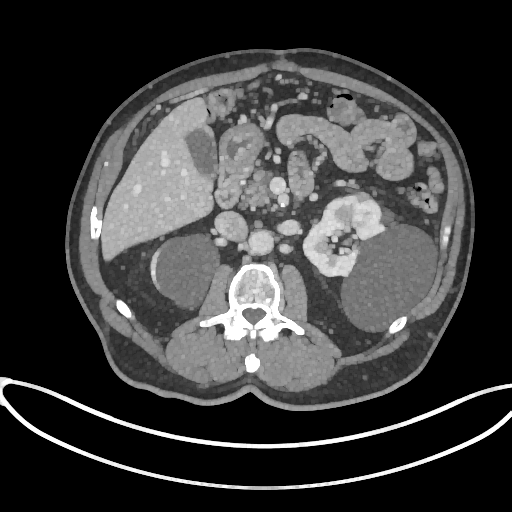Lesion: (353, 191, 373, 204)
